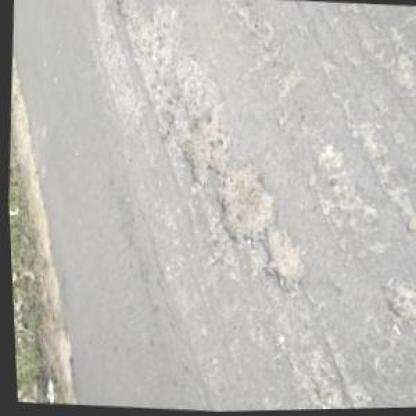pothole: (209, 159, 279, 247), (175, 112, 233, 184), (258, 230, 311, 293)
